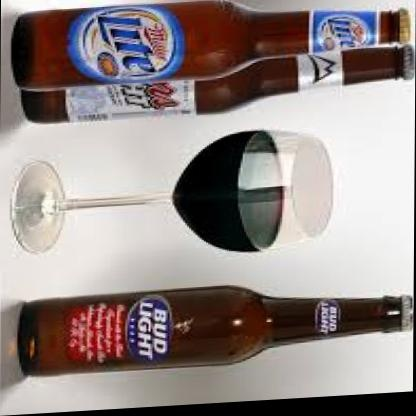trash: (18, 286, 411, 374), (12, 1, 377, 87), (21, 45, 413, 122)
